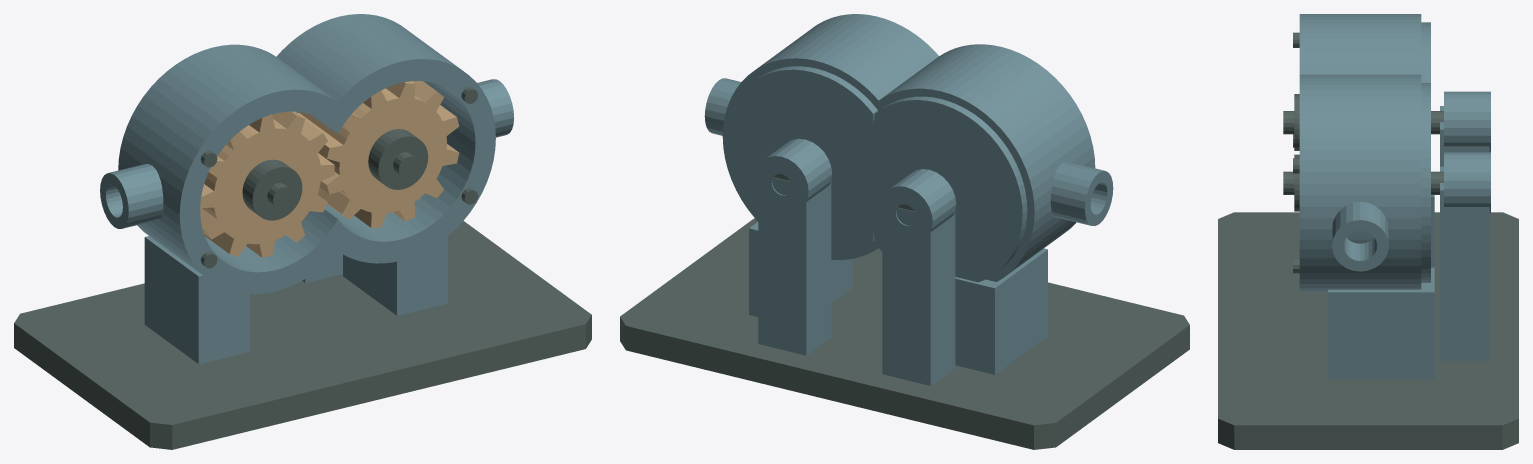
3 renders of one model, left to right at view 1: azimuth 30°, elevation 25°; view 2: azimuth 150°, elevation 25°; view 3: azimuth 270°, elevation 25°, orthographic.
Parts seen in each view (by area): view 1: WholeChamferedDisplayBase, WholePeanutShapedOpenChamber, WholeRightExternalToothWheel, WholeLeftExternalToothWheel, WholeCasingGroundRoot-1, WholeCasingGroundRoot1, WholeLeftBlindSideConnector, WholeLeftRootedHub, WholeRightRootedHub, WholeRightBlindSideConnector; view 2: WholeChamferedDisplayBase, WholePeanutShapedOpenChamber, WholeLeftBoredRearCoverHalf, WholeRightBoredRearCoverHalf, WholeRightRearBearingRoot, WholeLeftRearBearingRoot, WholeCasingGroundRoot-1, WholeLeftRearShaftCollar, WholeRightRearShaftCollar, WholeLeftBlindSideConnector, WholeCasingGroundRoot1, WholeRightBlindSideConnector; view 3: WholeChamferedDisplayBase, WholePeanutShapedOpenChamber, WholeCasingGroundRoot1, WholeRightRearBearingRoot, WholeRightBlindSideConnector, WholeLeftRearShaftCollar, WholeRightRearShaftCollar, WholeRightBoredRearCoverHalf, WholeLeftBoredRearCoverHalf, WholeLeftFixedShaft, WholeRightFixedShaft, WholeLeftRearBearingRoot (+1 smaller).
Boxes of the visible parts, bbox=[...] form: WholeChamferedDisplayBase: bbox=[14, 221, 591, 449]; WholePeanutShapedOpenChamber: bbox=[118, 14, 495, 294]; WholeRightExternalToothWheel: bbox=[298, 81, 459, 227]; WholeLeftExternalToothWheel: bbox=[200, 111, 334, 257]; WholeCasingGroundRoot-1: bbox=[144, 236, 249, 363]; WholeCasingGroundRoot1: bbox=[343, 236, 447, 315]; WholeLeftBlindSideConnector: bbox=[100, 164, 163, 228]; WholeLeftRootedHub: bbox=[242, 159, 302, 220]; WholeRightRootedHub: bbox=[368, 129, 428, 189]; WholeRightBlindSideConnector: bbox=[477, 79, 513, 137]; WholeChamferedDisplayBase: bbox=[620, 218, 1189, 449]; WholePeanutShapedOpenChamber: bbox=[722, 14, 1095, 281]; WholeLeftBoredRearCoverHalf: bbox=[874, 96, 1027, 282]; WholeRightBoredRearCoverHalf: bbox=[725, 66, 877, 255]; WholeRightRearBearingRoot: bbox=[758, 177, 831, 355]; WholeLeftRearBearingRoot: bbox=[882, 207, 955, 385]; WholeCasingGroundRoot-1: bbox=[955, 248, 1047, 374]; WholeLeftRearShaftCollar: bbox=[879, 169, 956, 243]; WholeRightRearShaftCollar: bbox=[755, 138, 831, 213]; WholeLeftBlindSideConnector: bbox=[1050, 162, 1113, 225]; WholeCasingGroundRoot1: bbox=[749, 222, 852, 316]; WholeRightBlindSideConnector: bbox=[704, 78, 740, 135]; WholeChamferedDisplayBase: bbox=[1218, 212, 1518, 449]; WholePeanutShapedOpenChamber: bbox=[1299, 14, 1421, 291]; WholeCasingGroundRoot1: bbox=[1328, 267, 1434, 378]; WholeRightRearBearingRoot: bbox=[1440, 166, 1489, 360]; WholeRightBlindSideConnector: bbox=[1332, 201, 1388, 271]; WholeLeftRearShaftCollar: bbox=[1444, 91, 1490, 152]; WholeRightRearShaftCollar: bbox=[1444, 152, 1490, 214]; WholeRightBoredRearCoverHalf: bbox=[1421, 83, 1430, 282]; WholeLeftBoredRearCoverHalf: bbox=[1421, 22, 1430, 82]; WholeLeftFixedShaft: bbox=[1283, 111, 1443, 134]; WholeRightFixedShaft: bbox=[1283, 171, 1443, 194]; WholeLeftRearBearingRoot: bbox=[1440, 106, 1489, 166].
Bounding box in the file's own units: 0.78 × 0.493 × 0.465.
